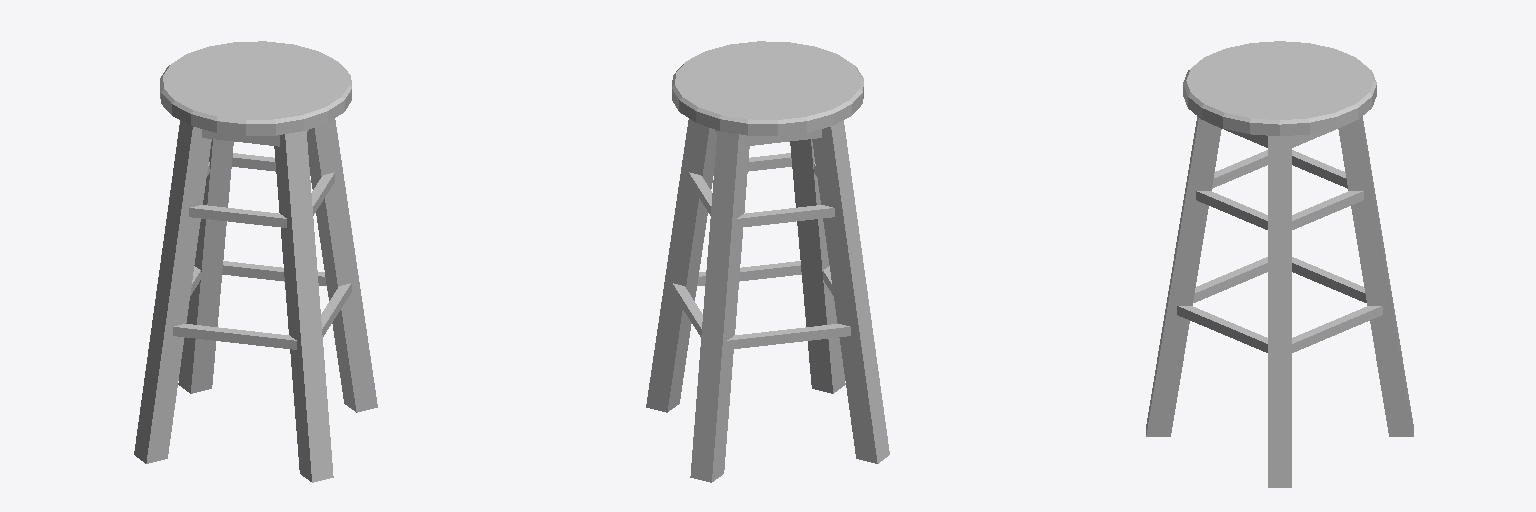
The model's file is Stool.obj.
3 views of the same model, side by side, from view 1: azimuth 30°, elevation 25°; view 2: azimuth 150°, elevation 25°; view 3: azimuth 270°, elevation 25° (orthographic).
Visible parts, largest first — view 1: stool; view 2: stool; view 3: stool.
Part boxes in pixels (bbox=[...]): stool: bbox=[134, 41, 377, 482]; stool: bbox=[646, 41, 889, 482]; stool: bbox=[1146, 41, 1413, 487].
Bounding box in the file's own units: 1.83 × 2.64 × 1.83.